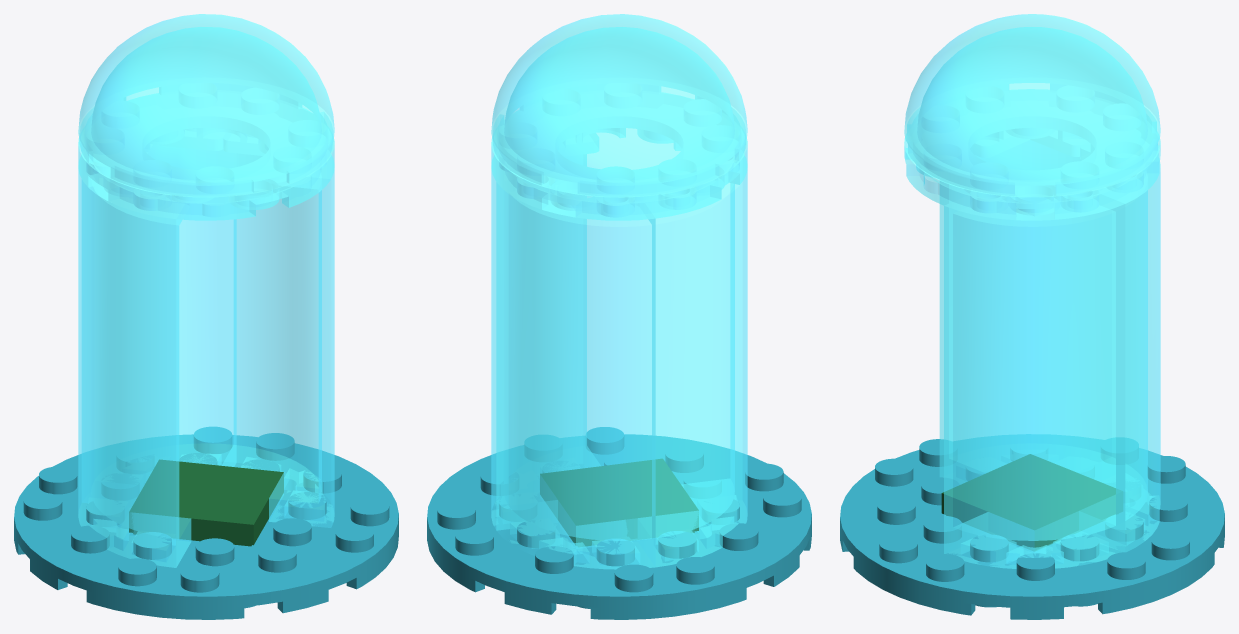
The model's file is lego-lab.glb.
The picture shows the model from 3 angles, left to right: view 1: azimuth 30°, elevation 25°; view 2: azimuth 150°, elevation 25°; view 3: azimuth 270°, elevation 25°; orthographic projection.
Parts seen in each view (by area): view 1: lab_2506b.094; view 2: lab_2506b.094; view 3: lab_2506b.094.
Boxes of the visible parts, left/top/right/bottom form: lab_2506b.094: left=14, top=14, right=398, bottom=619; lab_2506b.094: left=427, top=14, right=811, bottom=619; lab_2506b.094: left=840, top=14, right=1224, bottom=619.
Size of the model in its own units: 1.1 by 1.61 by 1.1.
